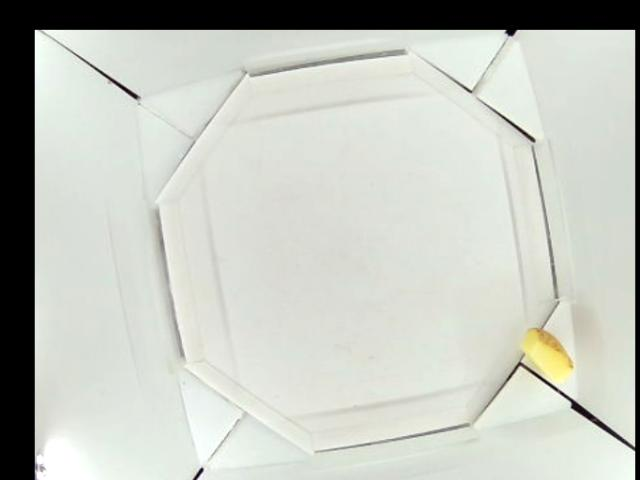Potato: (518, 327, 577, 381)
